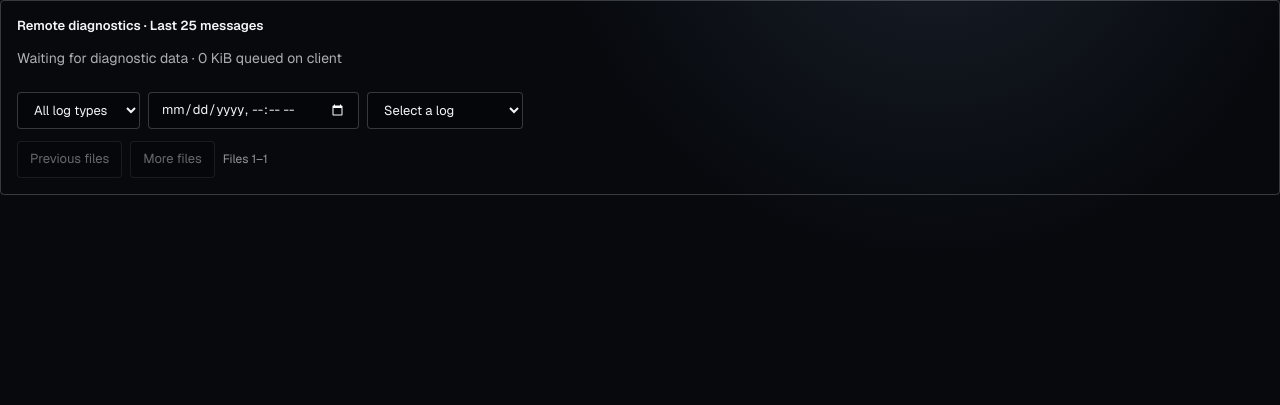
Test case: loads bounded log pages and filters the displayed text
Select "Journal.1.log · 1 KiB" in the dropdown named "Diagnostic log": (445, 110) [367, 92, 523, 129]
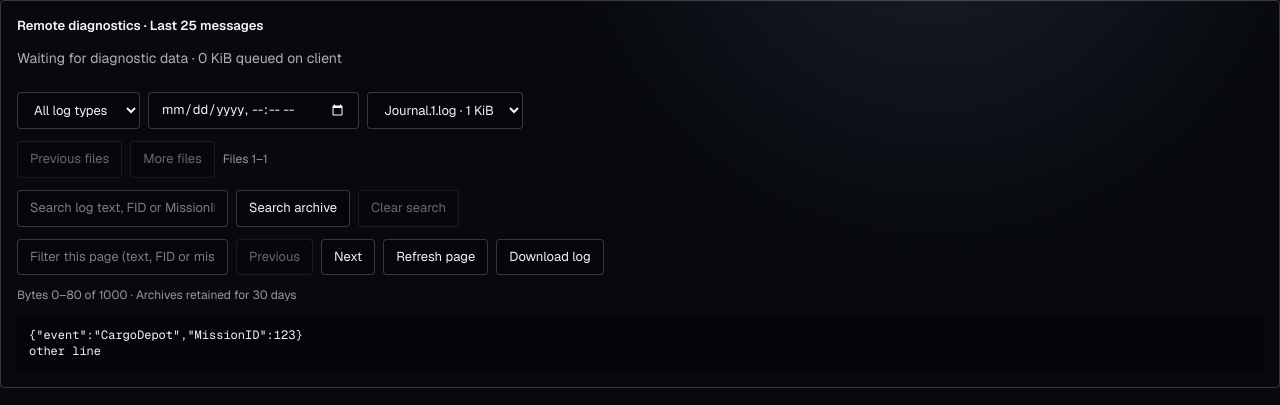
Now the text "{\"event\":\"CargoDepot\",\"MissionID\":123} other line" is shown, box [17, 315, 1263, 371]
In the field named "Search current log page": (122, 257) [17, 238, 228, 275], type "123"
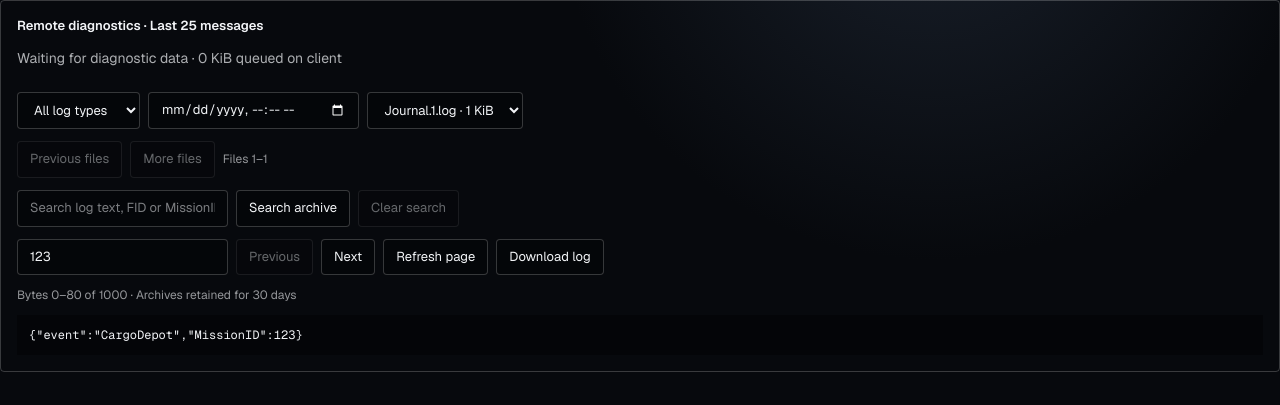
Now the button "Next" is enabled, box [321, 238, 375, 275]
Now the text "other line" is gone
